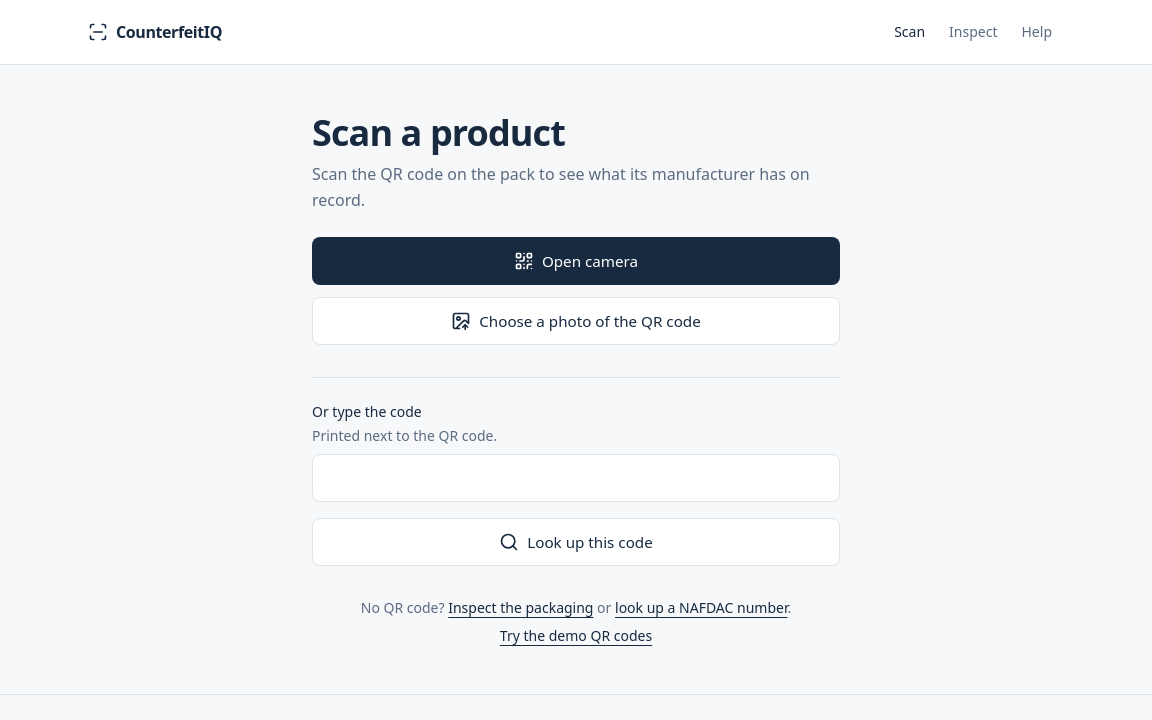
Scenario: scanning › looks up a typed code through /api/scan, with the random device value
Step 1. Type "2000000001012" into the field labelled "Or type the code" → (576, 478), box top-left (312, 454), bottom-right (840, 502)
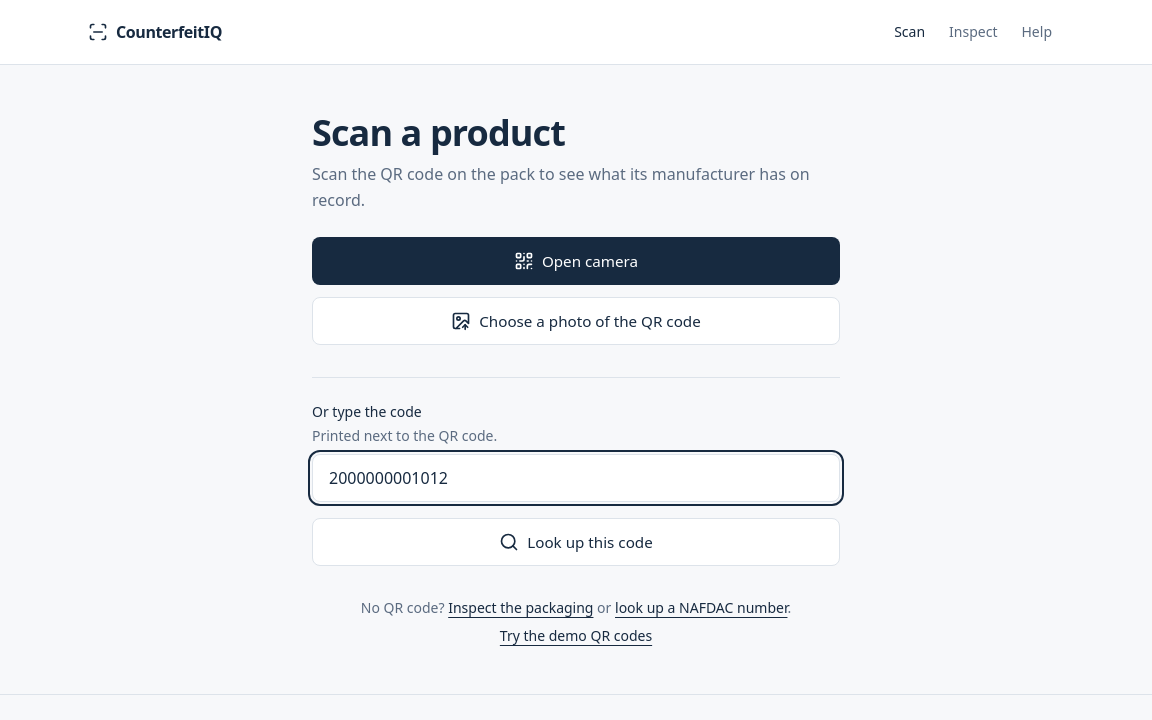
Step 2. Click the button "Look up this code" → (576, 542), box top-left (312, 518), bottom-right (840, 566)
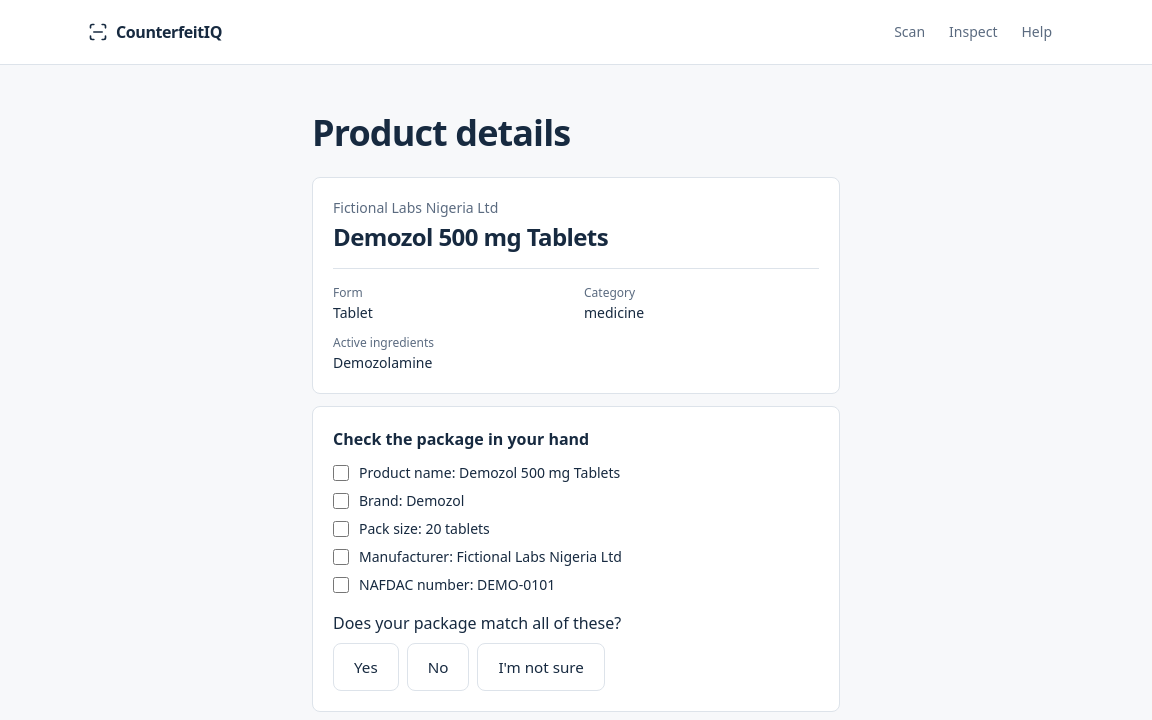
Expected: the text "Demozol 500 mg Tablets" is shown, top-left (333, 220), bottom-right (608, 253)
